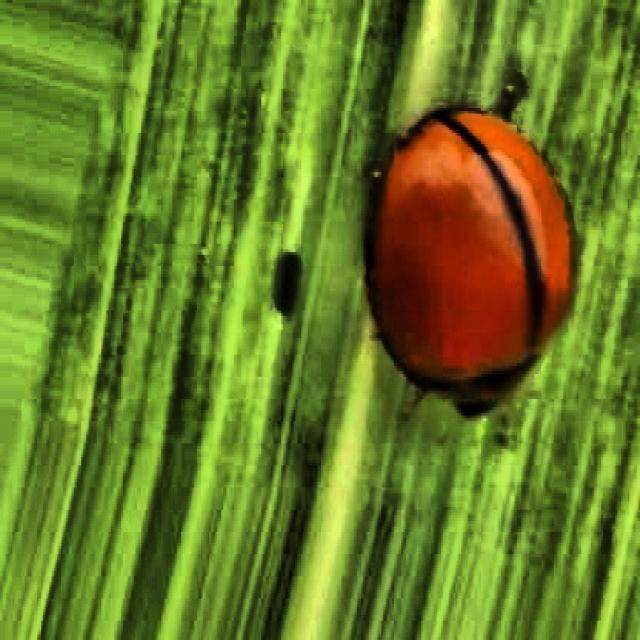Ladybug: (312, 40, 636, 466)
